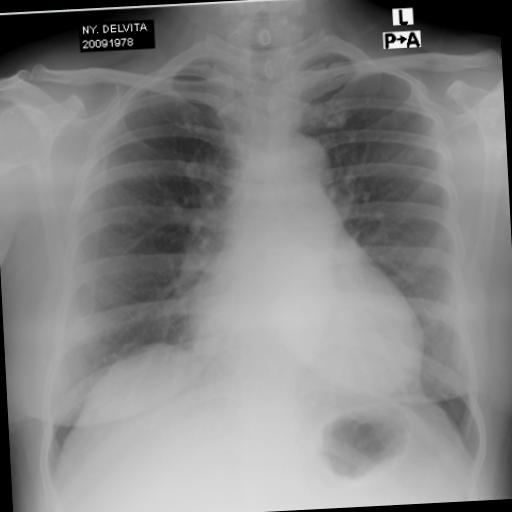kardiomegali: (28, 30, 490, 492)
